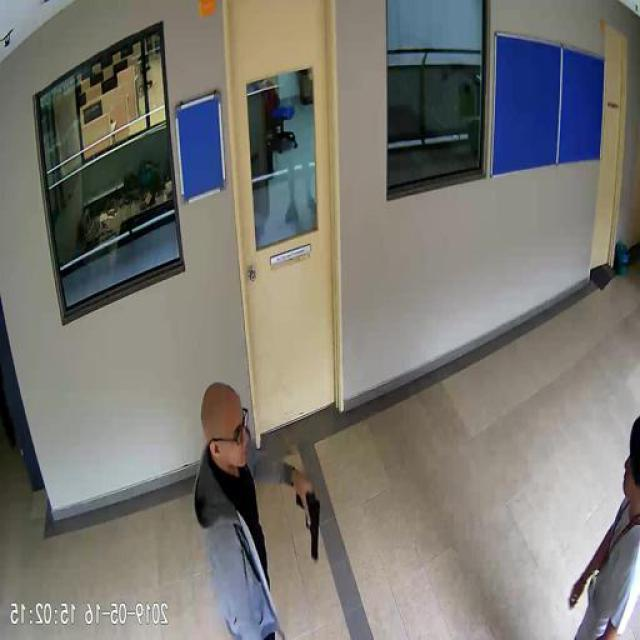Gun: (296, 481, 322, 559)
